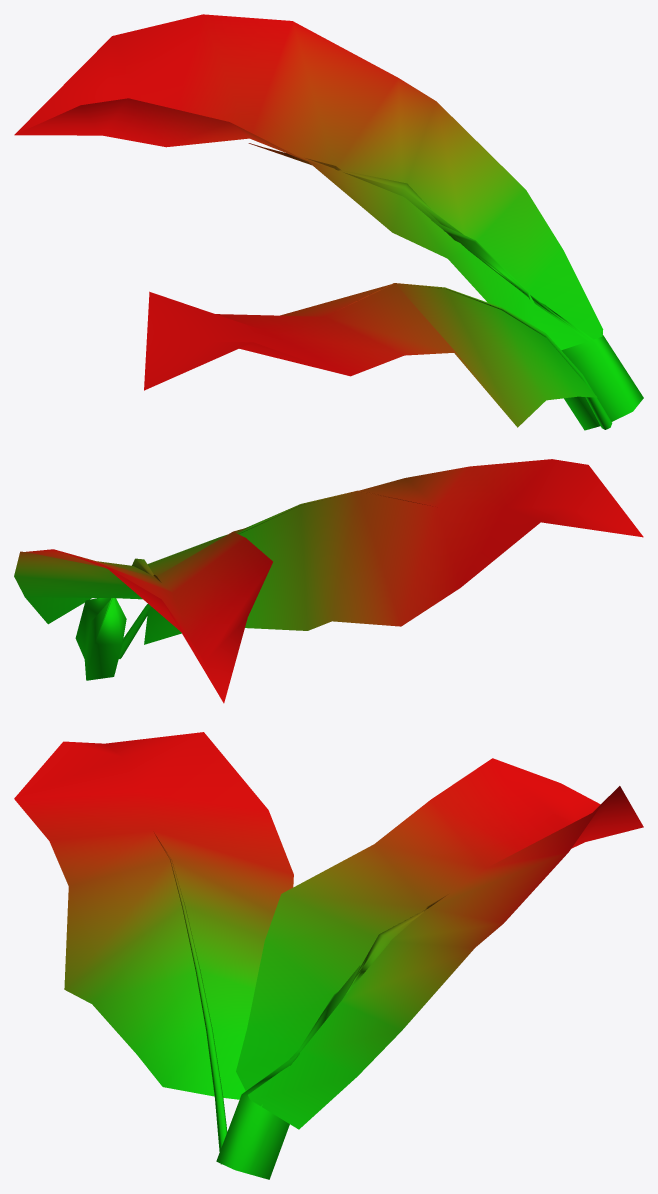
Rendered from Lady Fern_LOD3_Var11_wdvlditia.fbx.
3 views of the same model, one above another, from view 1: azimuth 30°, elevation 25°; view 2: azimuth 150°, elevation 25°; view 3: azimuth 270°, elevation 25° (orthographic). The views are drawn at different scales.
Parts seen in each view (by area): view 1: _oj2j_Var11_LOD3; view 2: _oj2j_Var11_LOD3; view 3: _oj2j_Var11_LOD3.
Part boxes in pixels (x1,y1,x2,y2): _oj2j_Var11_LOD3: (14,14,643,430); _oj2j_Var11_LOD3: (14,459,643,703); _oj2j_Var11_LOD3: (14,732,643,1179).
Bounding box in the file's own units: 41.82 × 22.13 × 44.84.
